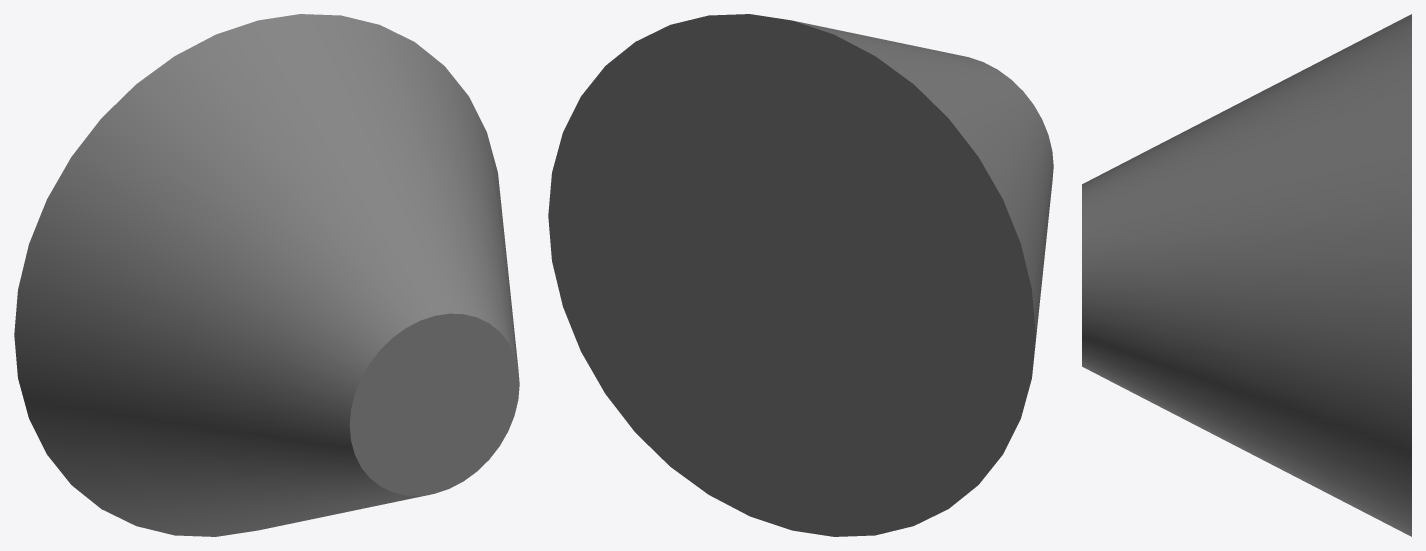
File: ph_capsule.sturdy.gltf
The picture shows the model from 3 angles, left to right: view 1: azimuth 30°, elevation 25°; view 2: azimuth 150°, elevation 25°; view 3: azimuth 270°, elevation 25°; orthographic projection. The views are drawn at different scales.
Parts seen in each view (by area): view 1: capsule; view 2: capsule; view 3: capsule.
Boxes of the visible parts, bbox=[...] form: capsule: bbox=[14, 14, 519, 536]; capsule: bbox=[548, 14, 1053, 536]; capsule: bbox=[1082, 14, 1411, 536].
Size of the model in its own units: 2 by 2 by 1.26.
1 material, 1 textured.
